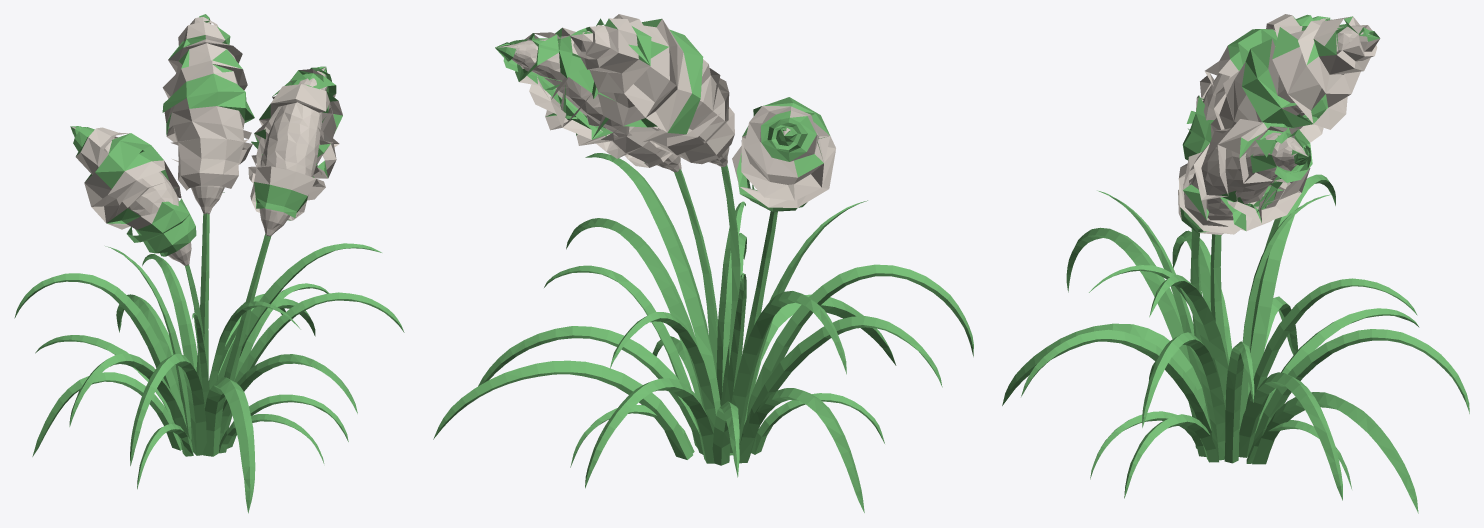
Rendered from susuki.glb.
3 renders of one model, left to right at view 1: azimuth 30°, elevation 25°; view 2: azimuth 150°, elevation 25°; view 3: azimuth 270°, elevation 25°, orthographic. The views are drawn at different scales.
Visible parts, largest first — view 1: geometry_0; view 2: geometry_0; view 3: geometry_0.
Part boxes in pixels (x1=…): geometry_0: x1=14, y1=14, x2=404, y2=513; geometry_0: x1=433, y1=14, x2=973, y2=512; geometry_0: x1=1002, y1=14, x2=1469, y2=513.
Bounding box in the file's own units: 0.2837 × 0.3179 × 0.2935.
